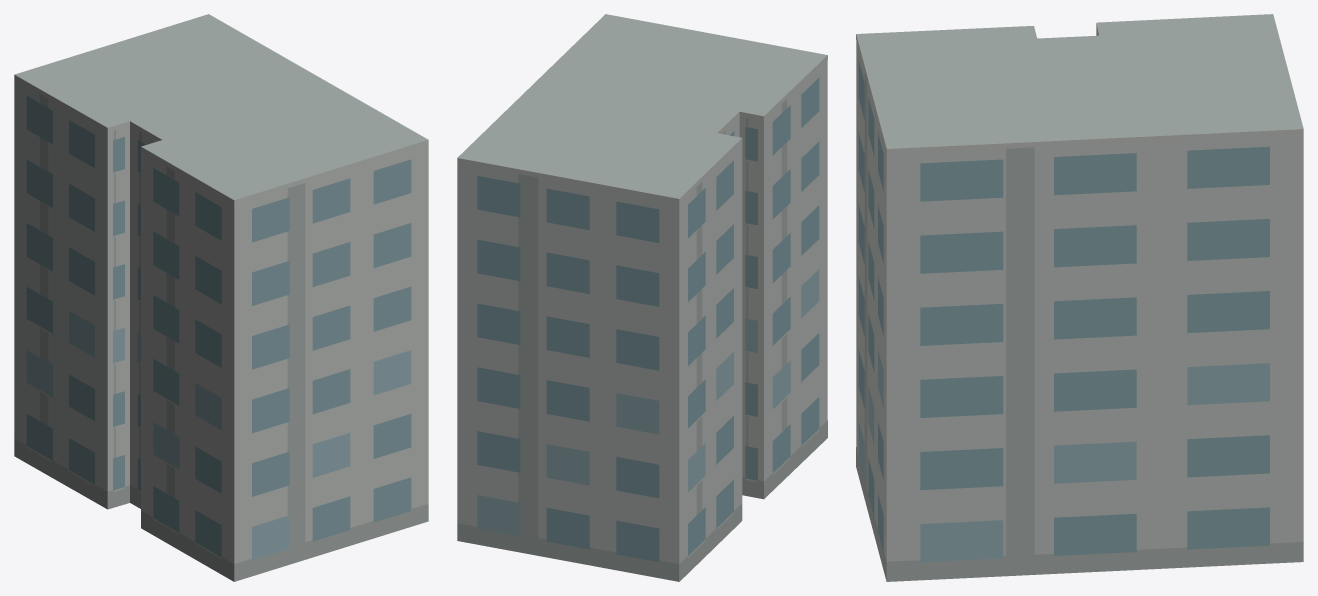
File: survey-upis-32885113.glb
The picture shows the model from 3 angles, left to right: view 1: azimuth 30°, elevation 25°; view 2: azimuth 150°, elevation 25°; view 3: azimuth 270°, elevation 25°; orthographic projection. The views are drawn at different scales.
Visible parts, largest first — view 1: survey-upis-32885113.tmp; view 2: survey-upis-32885113.tmp; view 3: survey-upis-32885113.tmp.
Boxes of the visible parts, bbox=[...] form: survey-upis-32885113.tmp: bbox=[14, 14, 428, 581]; survey-upis-32885113.tmp: bbox=[457, 14, 827, 581]; survey-upis-32885113.tmp: bbox=[856, 14, 1303, 581].
Bounding box in the file's own units: 13.29 × 19.85 × 18.61.
